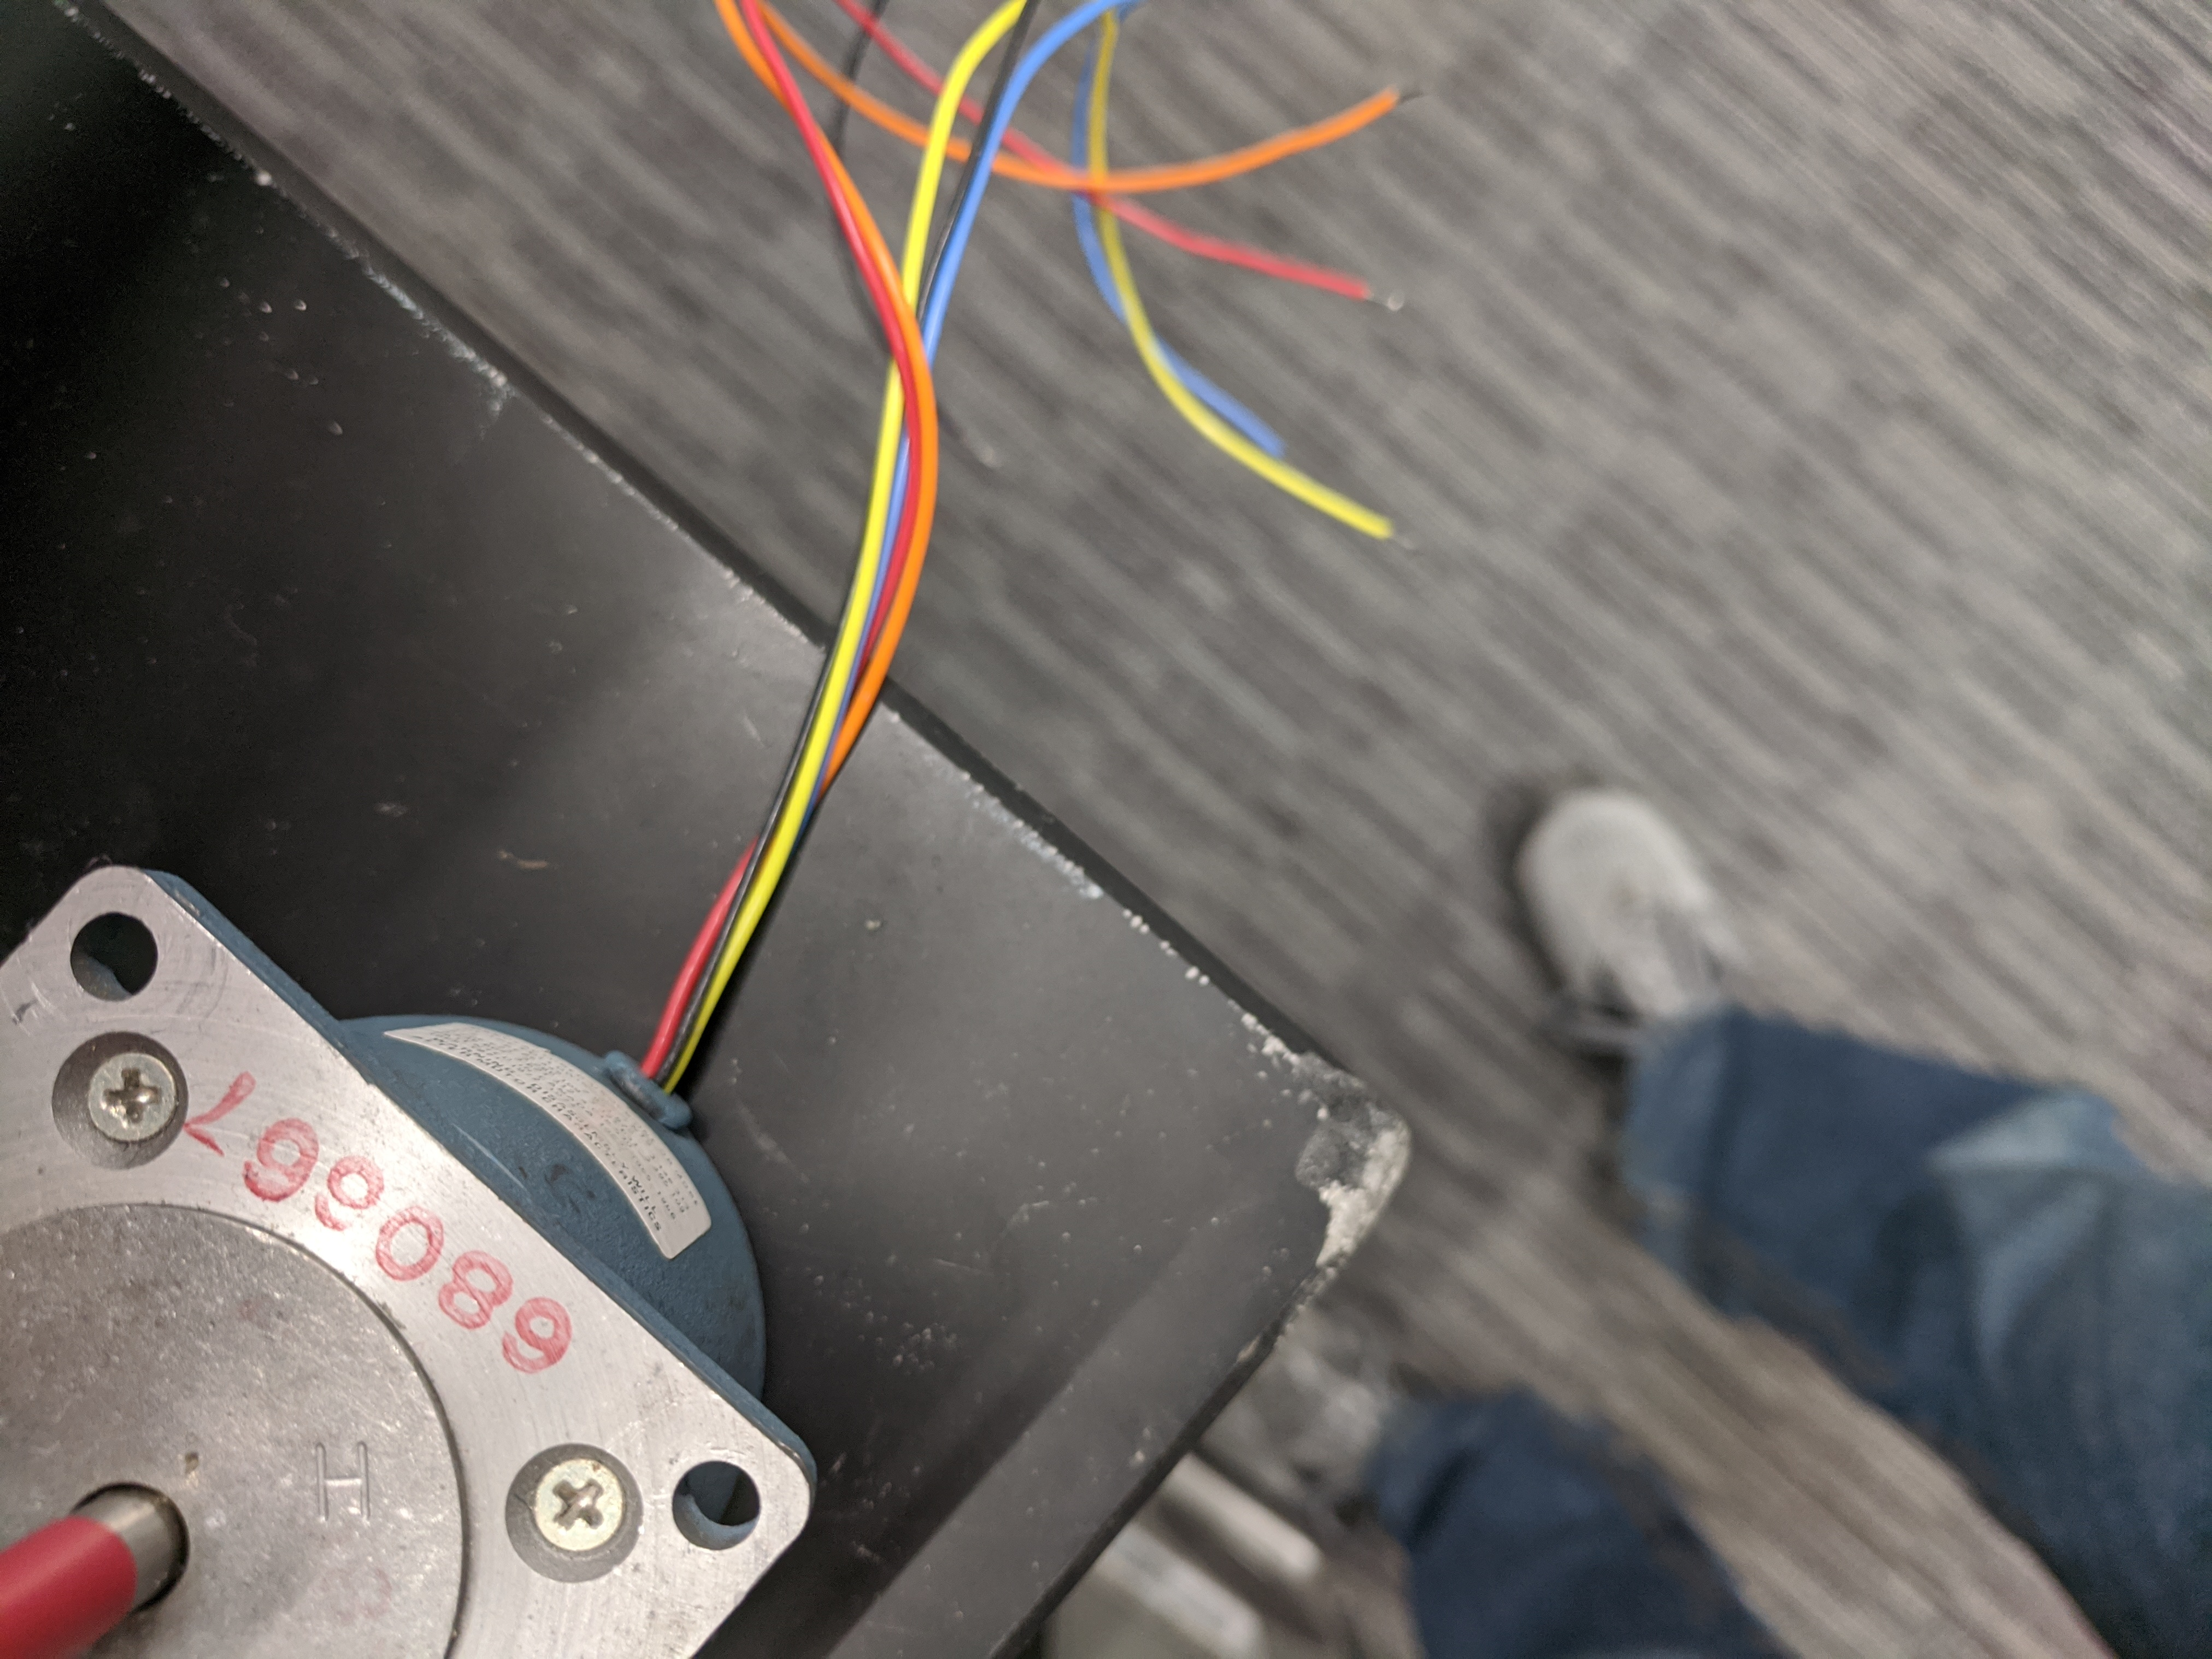cross_recessed_screw: (516, 1450, 634, 1558), (71, 1047, 192, 1143)
